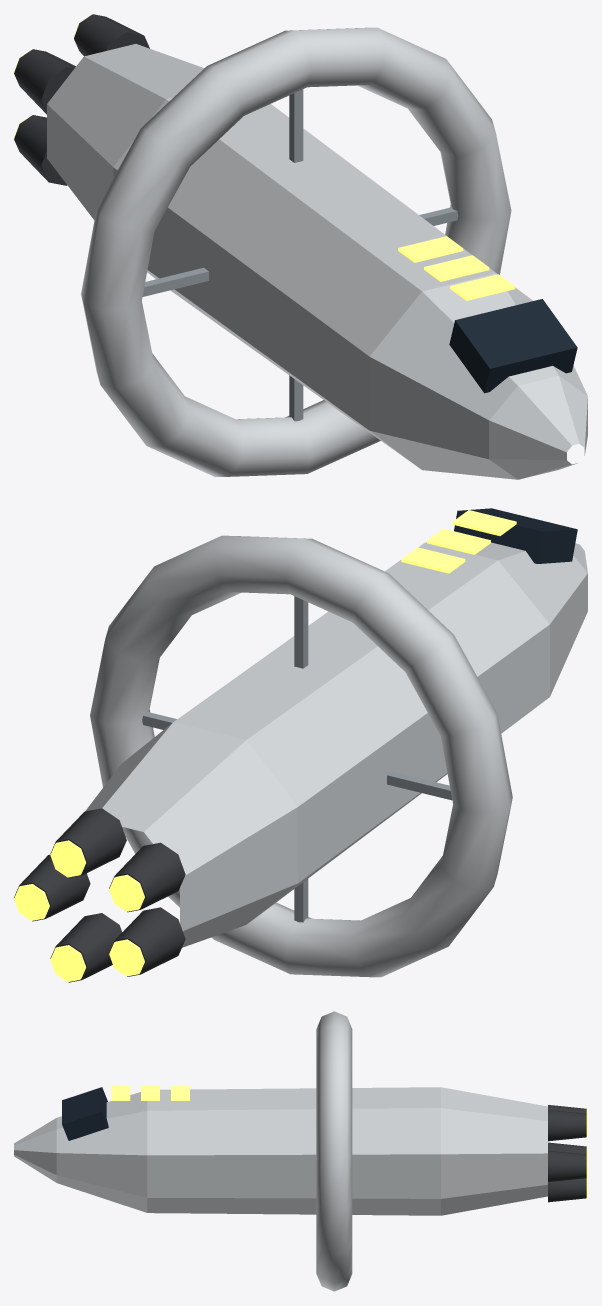
The model's file is space_ship_colony_transport_mk2.glb.
3 views of the same model, one above another, from view 1: azimuth 30°, elevation 25°; view 2: azimuth 150°, elevation 25°; view 3: azimuth 270°, elevation 25° (orthographic). The views are drawn at different scales.
Visible parts, largest first — view 1: body, habitat_ring_0, engine_2, engine_1, engine_3; view 2: body, habitat_ring_0, engine_3, engine_2, engine_1, engine_4, engine_0; view 3: body, habitat_ring_0, engine_0, engine_1, engine_4.
Part boxes in pixels (x1,y1,x2,y2): body: [47, 44, 587, 479]; habitat_ring_0: [81, 27, 511, 477]; engine_2: [14, 49, 75, 114]; engine_1: [74, 14, 149, 56]; engine_3: [14, 115, 67, 185]; body: [85, 508, 587, 947]; habitat_ring_0: [90, 535, 512, 977]; engine_3: [109, 907, 185, 976]; engine_2: [109, 842, 185, 912]; engine_1: [50, 808, 126, 877]; engine_4: [50, 913, 122, 982]; engine_0: [14, 854, 90, 921]; body: [14, 1086, 547, 1215]; habitat_ring_0: [316, 1011, 352, 1291]; engine_0: [548, 1150, 587, 1181]; engine_1: [548, 1110, 587, 1141]; engine_4: [548, 1177, 587, 1202].
Size of what is drawn, in the model's own units: 23.54 by 23.54 by 48.16.
